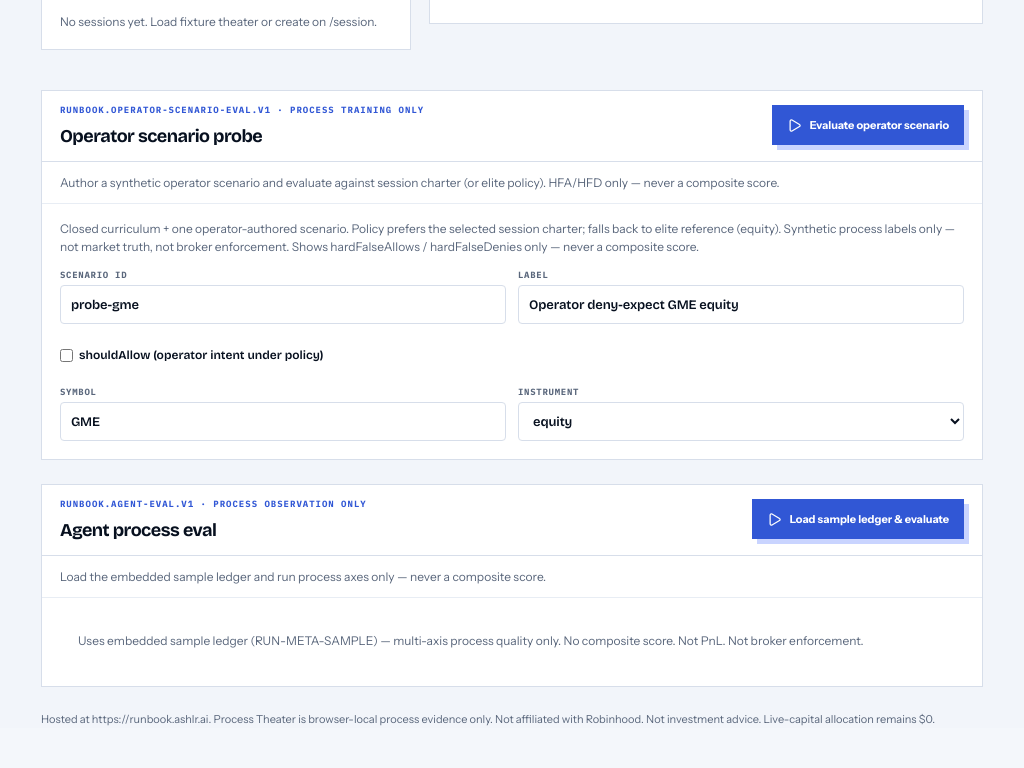
Test case: Process Theater › loads sample ledger and renders multi-axis process eval without composite score
(page scrolled)
Click the button "Load sample ledger & evaluate" at x=858, y=519, box [752, 499, 964, 539]
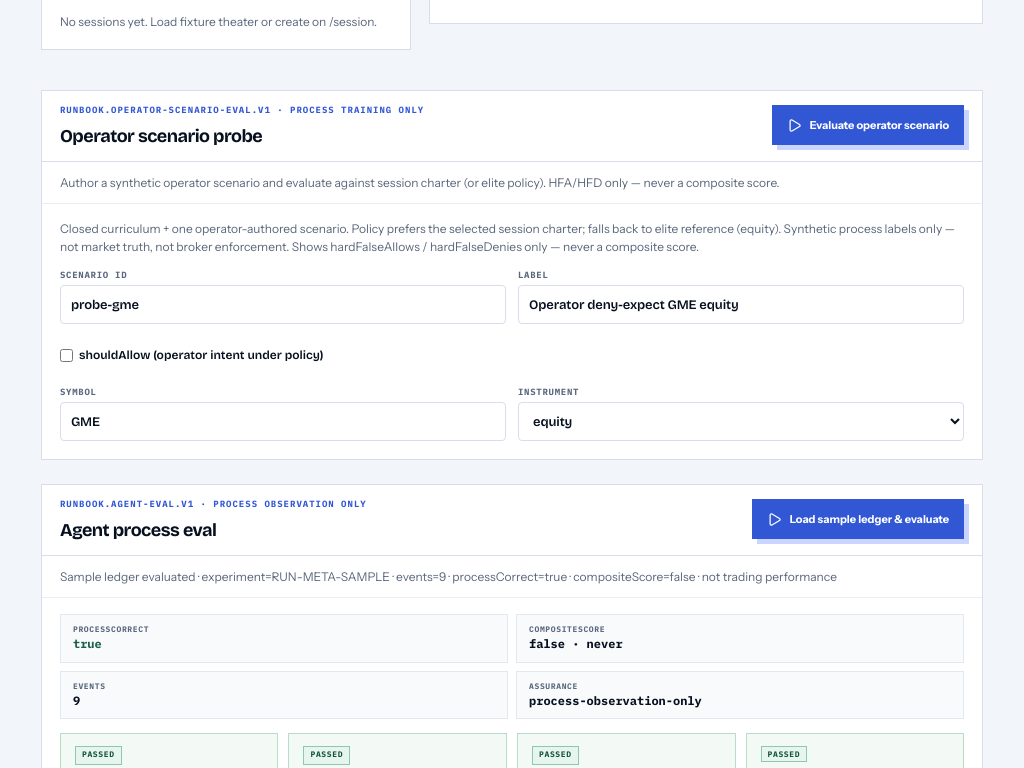
Expected: the element named "Agent eval summary" shows "processCorrect", [73, 624, 149, 634]
Expected: the element named "Agent eval summary" shows "true", [73, 636, 102, 651]
Expected: the element named "Agent eval summary" shows "compositeScore", [529, 624, 605, 634]
